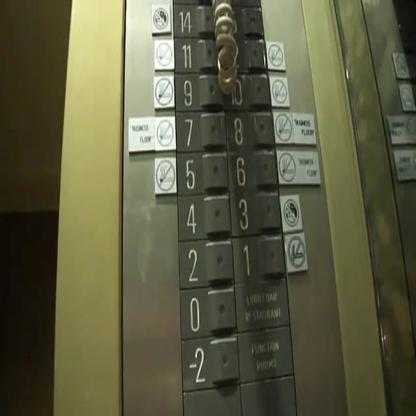-2: (180, 331, 239, 393)
0: (178, 284, 238, 340)
1: (230, 232, 286, 284)
10: (224, 72, 272, 110)
11: (172, 34, 223, 72)
14: (172, 0, 221, 37)
2: (176, 235, 234, 289)
3: (228, 189, 283, 236)
4: (175, 191, 232, 242)
5: (175, 148, 229, 196)
6: (225, 147, 277, 191)
7: (174, 109, 227, 152)
8: (224, 109, 276, 150)
9: (173, 71, 223, 112)
blur: (223, 35, 268, 71), (223, 3, 264, 38)
